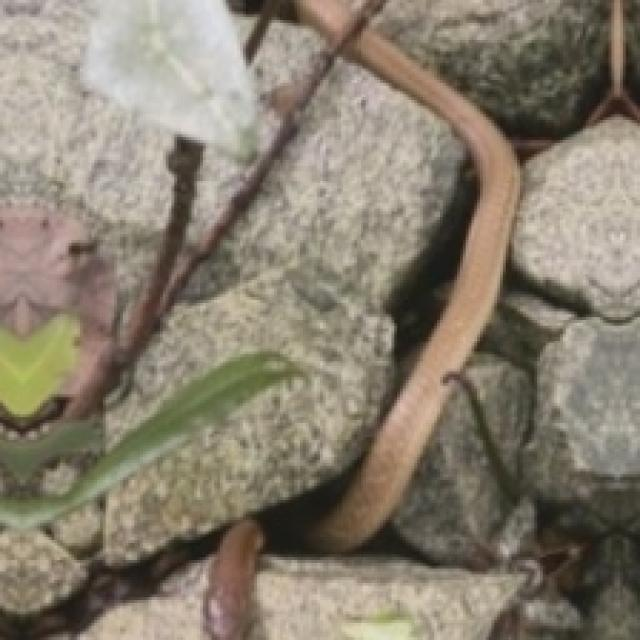king cobra: (205, 0, 520, 640)
